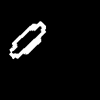chain: (10, 22, 45, 58)
